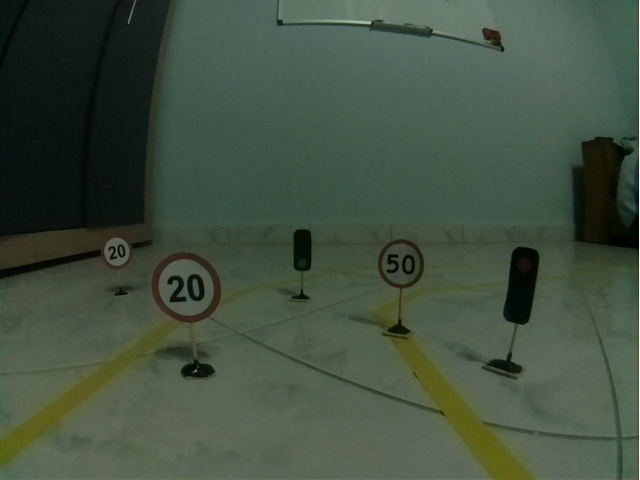Green Traffic Light: (293, 229, 312, 272)
Red Traffic Light: (503, 245, 540, 325)
Speed Limit 20: (151, 252, 221, 323), (101, 236, 132, 270)
Speed Limit 50: (378, 239, 424, 288)
